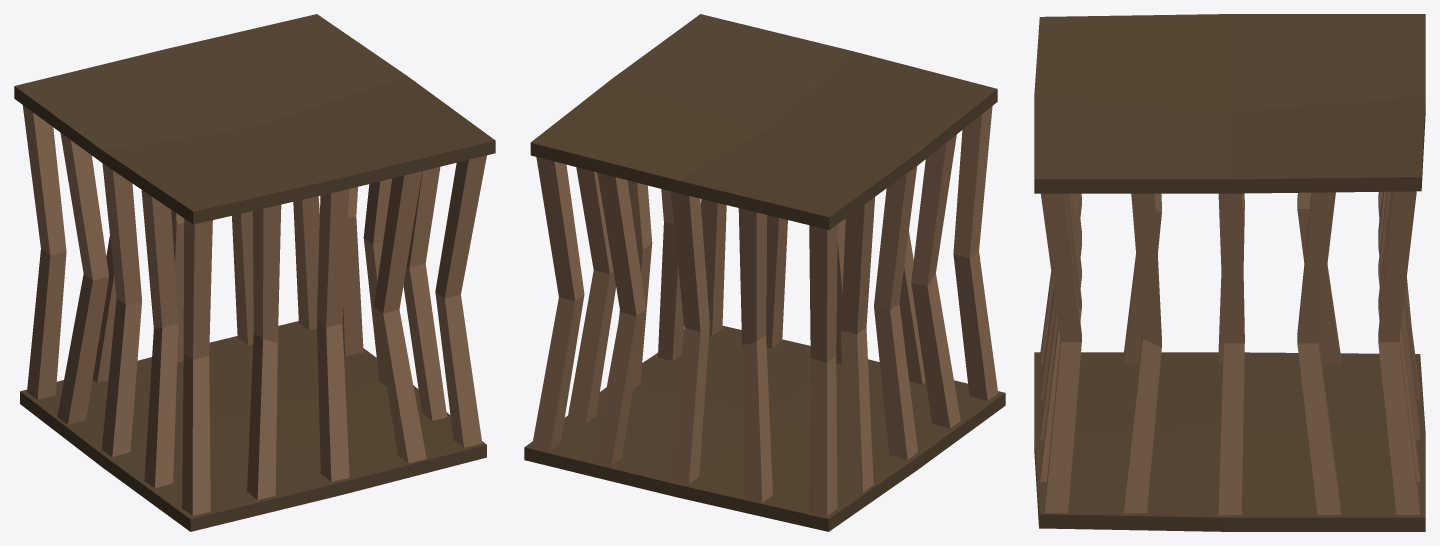
File: Cage_1_Brown.fbx
3 views of the same model, side by side, from view 1: azimuth 30°, elevation 25°; view 2: azimuth 150°, elevation 25°; view 3: azimuth 270°, elevation 25° (orthographic). The views are drawn at different scales.
Parts seen in each view (by area): view 1: Cage_1_Brown_Part_1, Cage_1_Brown_Part_2; view 2: Cage_1_Brown_Part_1, Cage_1_Brown_Part_2; view 3: Cage_1_Brown_Part_1, Cage_1_Brown_Part_2.
Part boxes in pixels (<box>): Cage_1_Brown_Part_1: <box>14,14,495,531</box>; Cage_1_Brown_Part_2: <box>22,105,486,515</box>; Cage_1_Brown_Part_1: <box>524,14,1005,531</box>; Cage_1_Brown_Part_2: <box>532,106,998,516</box>; Cage_1_Brown_Part_1: <box>1034,14,1425,531</box>; Cage_1_Brown_Part_2: <box>1040,191,1419,515</box>.
Size of the model in its own units: 150 by 149 by 150.
